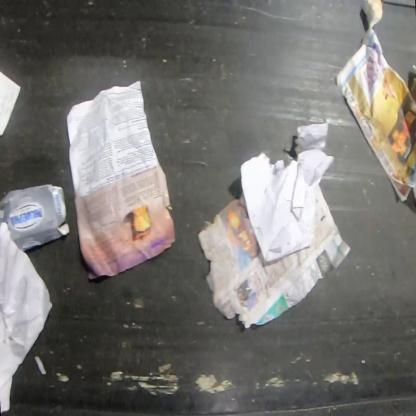cardboard: (0, 183, 70, 251)
